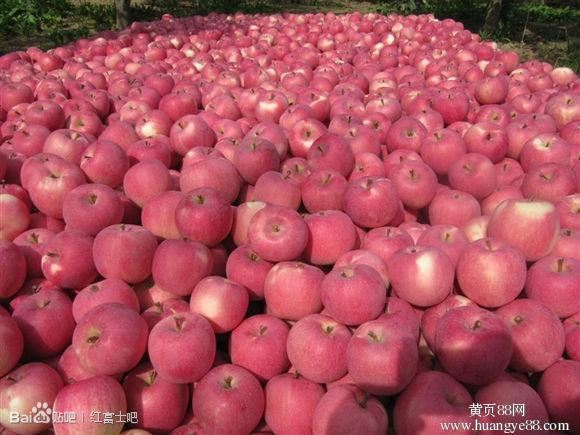apple: (433, 304, 510, 381), (393, 372, 476, 435), (73, 304, 149, 370), (458, 236, 527, 307), (495, 304, 564, 375), (222, 313, 291, 382), (195, 363, 264, 432), (146, 312, 215, 381), (485, 197, 558, 260), (351, 322, 415, 390), (287, 312, 351, 380), (321, 261, 385, 329), (51, 379, 124, 435), (91, 223, 157, 282), (148, 235, 214, 294), (311, 384, 386, 435), (390, 246, 454, 304), (1, 362, 55, 430), (246, 205, 309, 263), (264, 260, 324, 316), (12, 294, 72, 349), (266, 373, 320, 434), (526, 253, 580, 313), (193, 277, 246, 333), (65, 183, 125, 231), (40, 230, 95, 282), (179, 190, 235, 241), (345, 176, 398, 227), (308, 210, 354, 263), (450, 152, 497, 198), (393, 159, 437, 208), (431, 190, 481, 228), (362, 225, 413, 259)
